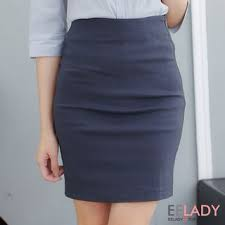F_tailored skirt: (40, 14, 189, 209)
